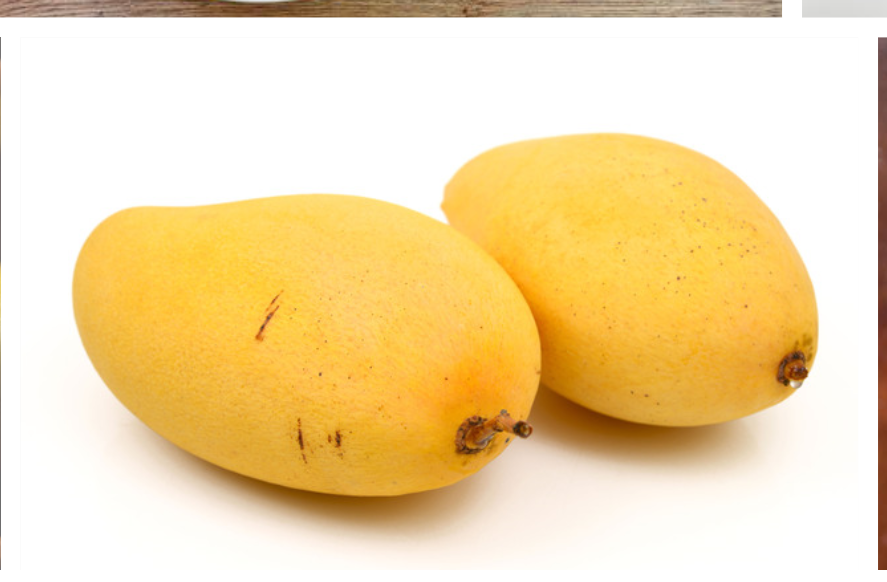mango: (76, 188, 546, 496), (440, 130, 819, 430)
